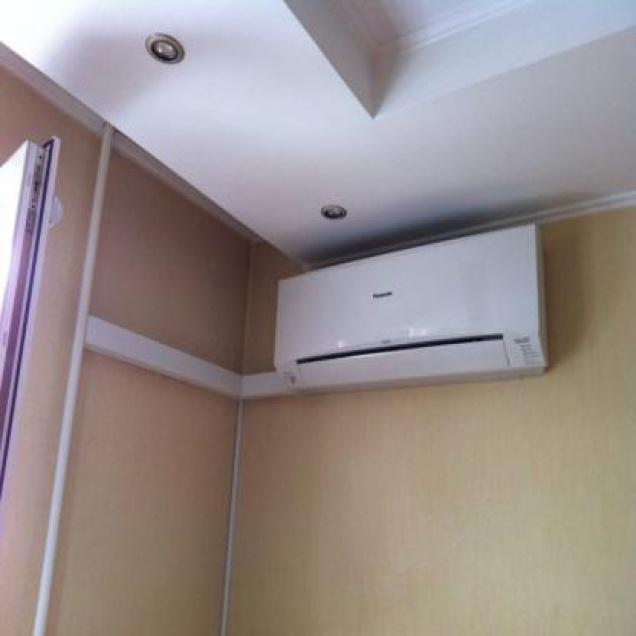AC: (271, 222, 549, 394)
